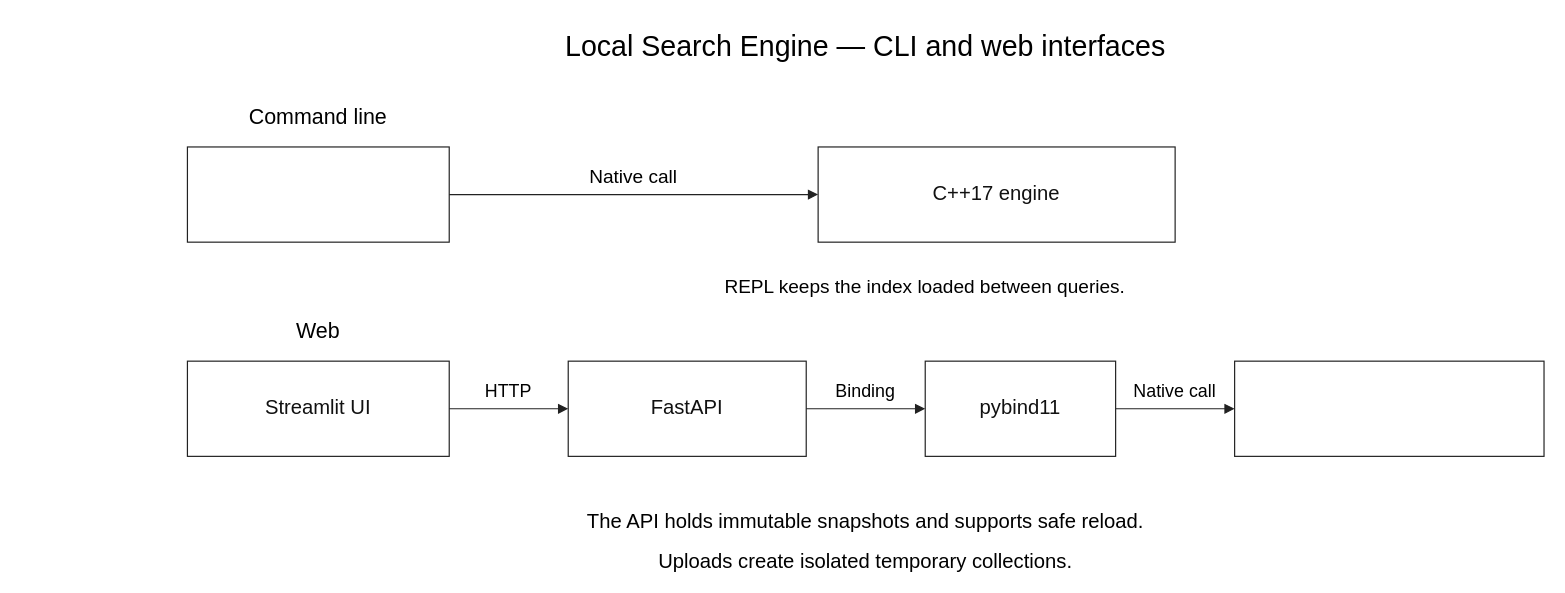
Image size: 1565x593. Some labels were removed from this diagram. The box of each missing label's shape, as (x1, y1, x2, y2) in pixels:
CLI / REPL: (186, 146, 449, 242)
Resident C++17 engine: (1233, 360, 1544, 456)
